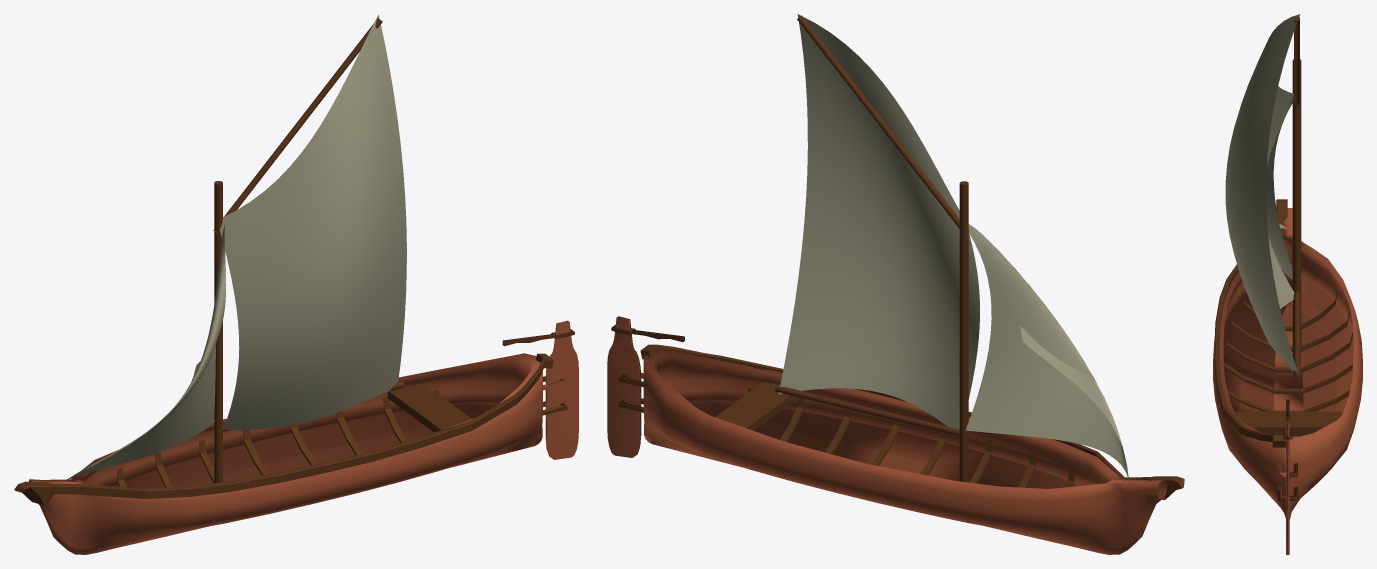
Rendered from boat.glb.
The picture shows the model from 3 angles, left to right: view 1: azimuth 30°, elevation 25°; view 2: azimuth 150°, elevation 25°; view 3: azimuth 270°, elevation 25°; orthographic projection. The views are drawn at different scales.
Parts seen in each view (by area): view 1: Большой парус, Лодка, Рамка лодки, Малый парус, Плавник, Мачта, Шпангоуты, Сиденья; view 2: Большой парус, Лодка, Малый парус, Мачта, Плавник, Шпангоуты, Сиденья, Рамка лодки; view 3: Лодка, Большой парус, Мачта, Шпангоуты, Сиденья, Рамка лодки, Малый парус, Плавник.
Part boxes in pixels (bbox=[...]): Большой парус: bbox=[219, 14, 406, 430]; Лодка: bbox=[29, 353, 543, 554]; Рамка лодки: bbox=[14, 353, 553, 505]; Малый парус: bbox=[66, 225, 226, 479]; Плавник: bbox=[502, 320, 578, 459]; Мачта: bbox=[213, 18, 404, 483]; Шпангоуты: bbox=[117, 389, 438, 487]; Сиденья: bbox=[387, 385, 471, 432]; Большой парус: bbox=[778, 14, 979, 429]; Лодка: bbox=[643, 351, 1167, 554]; Малый парус: bbox=[958, 217, 1128, 479]; Мачта: bbox=[775, 15, 969, 482]; Плавник: bbox=[607, 316, 684, 457]; Шпангоуты: bbox=[747, 388, 1075, 487]; Сиденья: bbox=[715, 382, 798, 430]; Рамка лодки: bbox=[640, 344, 1184, 499]; Лодка: bbox=[1213, 208, 1362, 518]; Большой парус: bbox=[1225, 14, 1299, 372]; Мачта: bbox=[1292, 15, 1301, 380]; Шпангоуты: bbox=[1223, 290, 1352, 436]; Сиденья: bbox=[1234, 411, 1342, 434]; Рамка лодки: bbox=[1214, 199, 1287, 447]; Малый парус: bbox=[1266, 98, 1293, 279]; Плавник: bbox=[1277, 399, 1297, 554].
Bounding box in the file's own units: 11.15 × 9.13 × 2.72.
